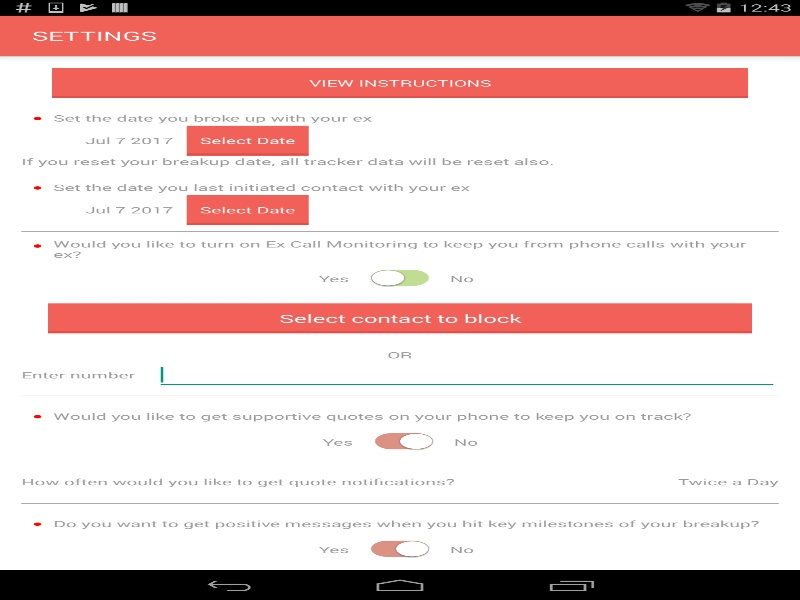Button: (48, 303, 752, 333), (52, 68, 748, 98), (513, 466, 778, 496), (186, 125, 308, 155), (186, 195, 308, 225), (21, 125, 85, 155), (21, 195, 85, 225), (21, 110, 53, 125), (21, 180, 53, 195), (21, 238, 53, 253), (21, 408, 53, 423), (21, 516, 53, 531)
Input: (155, 360, 778, 389)
